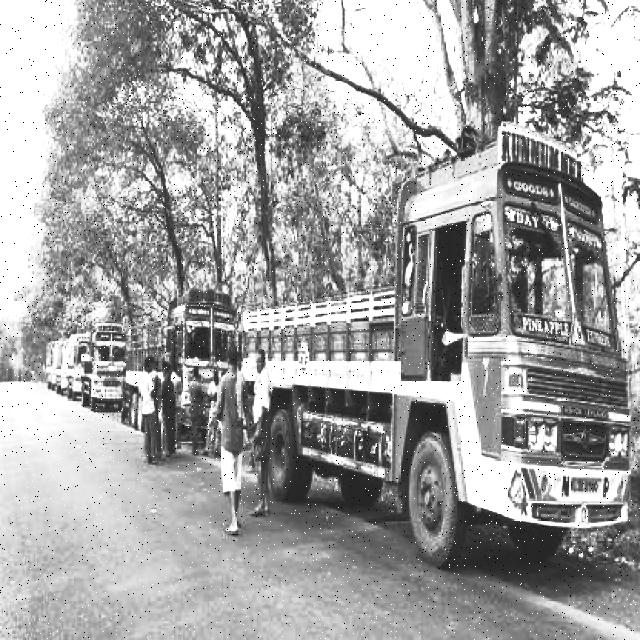HCV: (283, 151, 632, 541), (148, 255, 236, 441), (72, 318, 146, 424), (54, 330, 108, 416), (45, 338, 82, 394)
